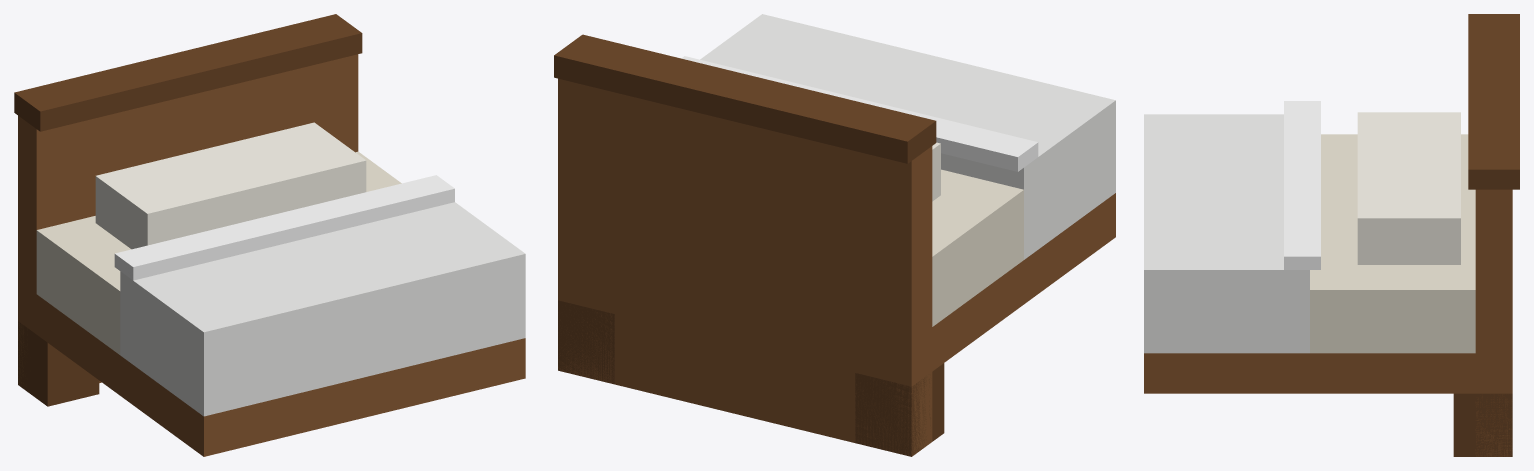
Rendered from bed_white_head.glb.
3 views of the same model, side by side, from view 1: azimuth 30°, elevation 25°; view 2: azimuth 150°, elevation 25°; view 3: azimuth 270°, elevation 25° (orthographic). The views are drawn at different scales.
Parts seen in each view (by area): view 1: body; view 2: body; view 3: body.
Part boxes in pixels (bbox=[...]): body: bbox=[14, 14, 525, 456]; body: bbox=[554, 14, 1115, 456]; body: bbox=[1144, 14, 1519, 456].
Bounding box in the file's own units: 1 × 0.86 × 1.02.
